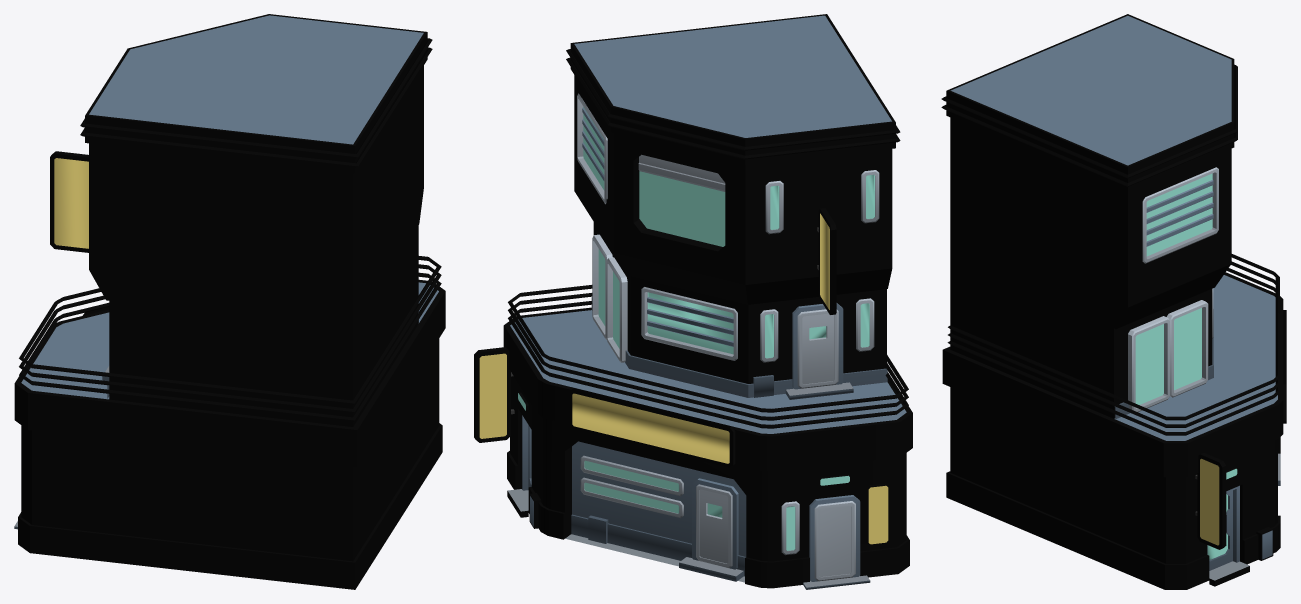
Rendered from Comercio_Edificio_Esquina_01.FBX.
3 views of the same model, side by side, from view 1: azimuth 30°, elevation 25°; view 2: azimuth 150°, elevation 25°; view 3: azimuth 270°, elevation 25° (orthographic). The views are drawn at different scales.
Parts seen in each view (by area): view 1: Comercio_Edificio_Esquina_01; view 2: Comercio_Edificio_Esquina_01; view 3: Comercio_Edificio_Esquina_01.
Part boxes in pixels (x1=…): Comercio_Edificio_Esquina_01: x1=14, y1=14, x2=445, y2=589; Comercio_Edificio_Esquina_01: x1=474, y1=14, x2=912, y2=589; Comercio_Edificio_Esquina_01: x1=941, y1=14, x2=1286, y2=589.
Size of the model in its own units: 1644 by 1246 by 1635.
